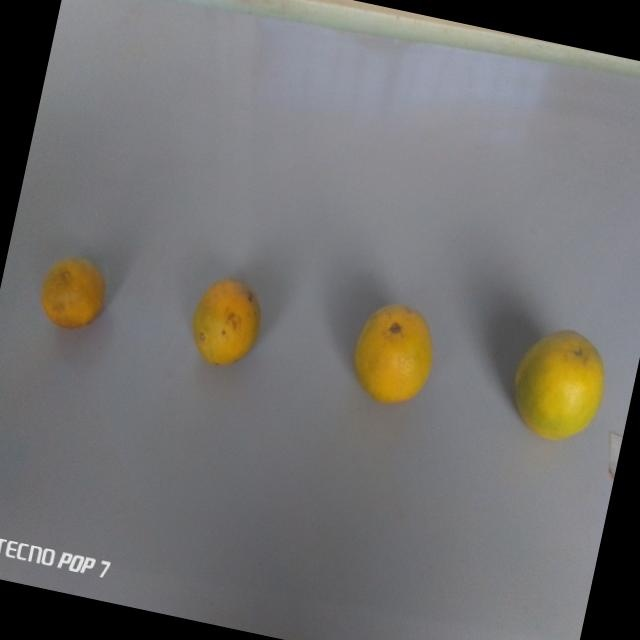agrume: (500, 310, 624, 454), (334, 288, 450, 420), (174, 261, 278, 389), (23, 237, 117, 351)
